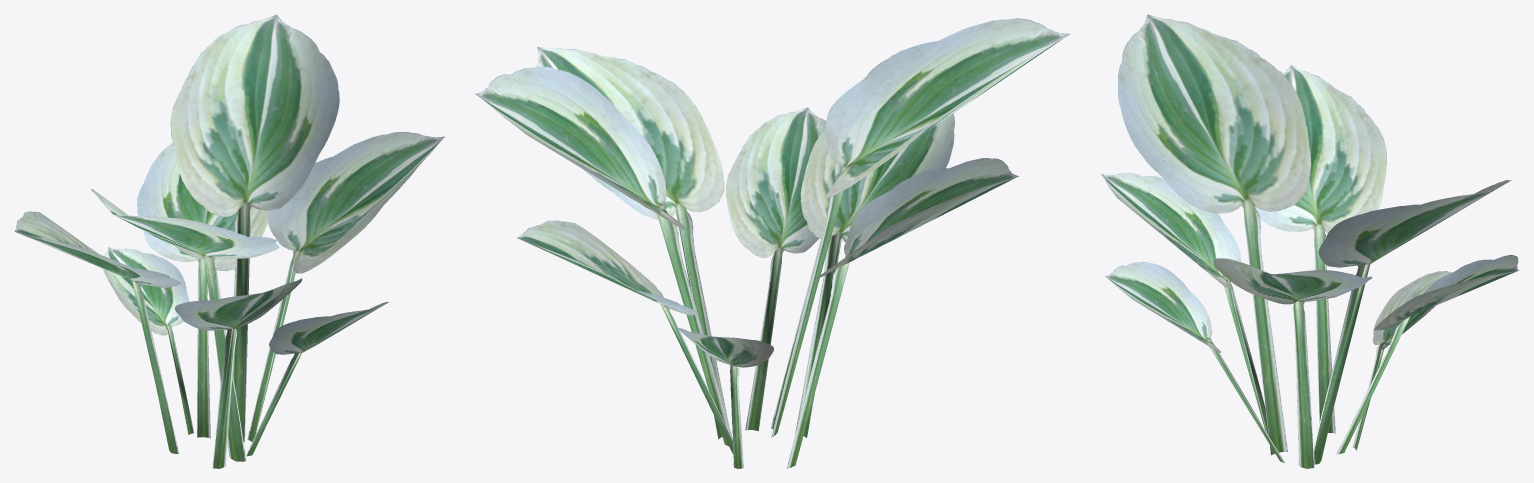
The model's file is plant_small_wg_01U.fbx.
3 views of the same model, side by side, from view 1: azimuth 30°, elevation 25°; view 2: azimuth 150°, elevation 25°; view 3: azimuth 270°, elevation 25° (orthographic). The views are drawn at different scales.
Parts seen in each view (by area): view 1: plant_small_wg_01U; view 2: plant_small_wg_01U; view 3: plant_small_wg_01U.
Part boxes in pixels (box(x1,y1,x2,y2)): plant_small_wg_01U: box(14, 14, 444, 468); plant_small_wg_01U: box(475, 18, 1070, 468); plant_small_wg_01U: box(1101, 14, 1518, 468).
Bounding box in the file's own units: 76.11 × 58.61 × 64.47.
